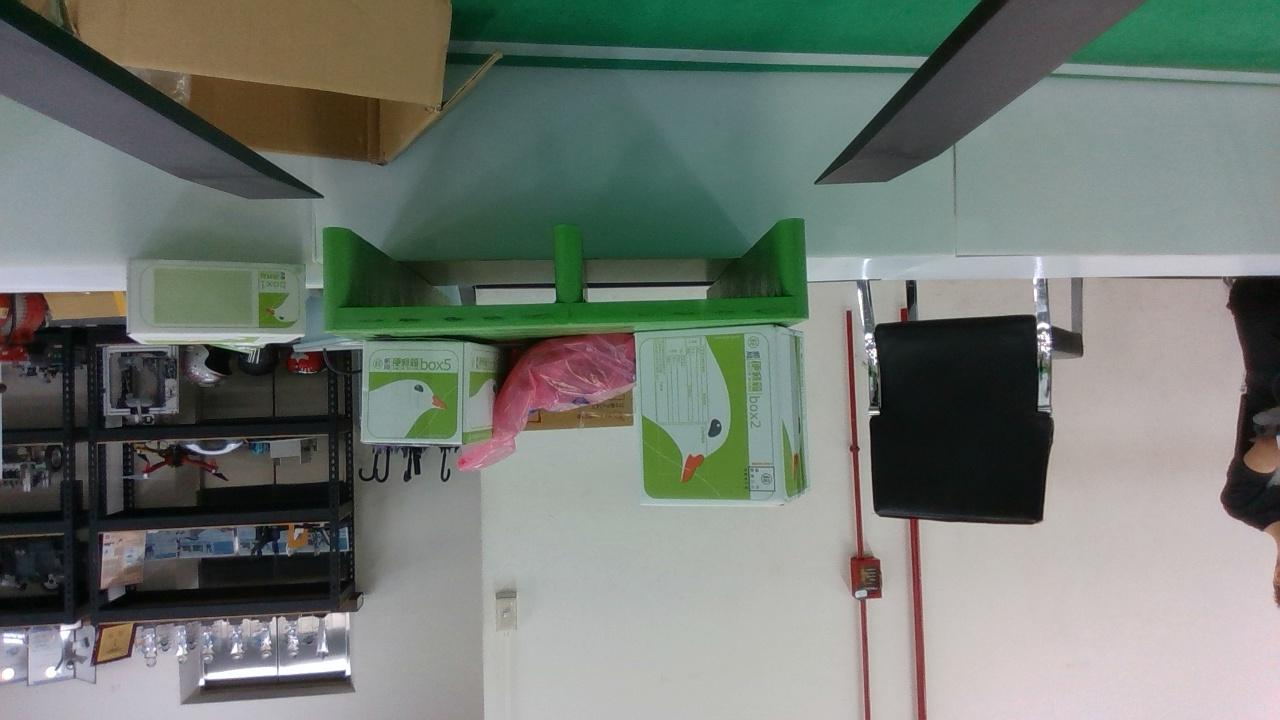Pallet: (321, 220, 810, 334)
